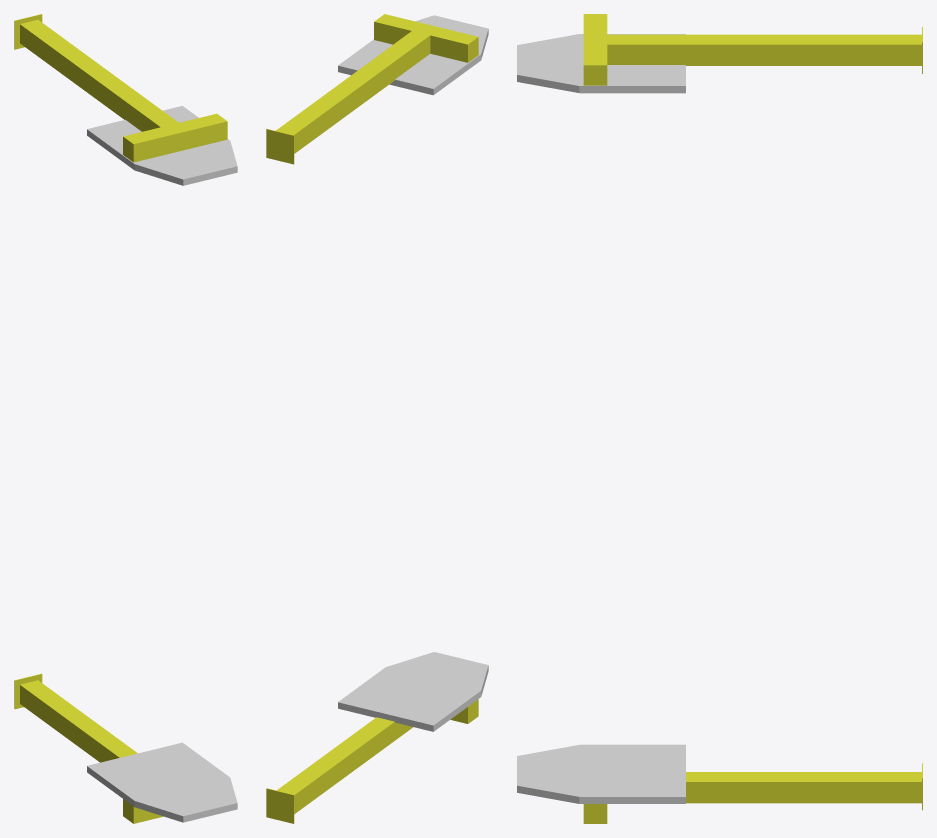
Rendered from k_and_c_machine_stands.obj.
3 views of the same model, side by side, from view 1: azimuth 30°, elevation 25°; view 2: azimuth 150°, elevation 25°; view 3: azimuth 270°, elevation 25° (orthographic). The views are drawn at different scales.
Visible parts, largest first — view 1: (null); view 2: (null); view 3: (null).
Part boxes in pixels (x1=…): (null): x1=14, y1=14, x2=237, y2=823; (null): x1=266, y1=14, x2=488, y2=823; (null): x1=517, y1=14, x2=922, y2=823.
Bounding box in the file's own units: 0.5079 × 3.49 × 1.67.
